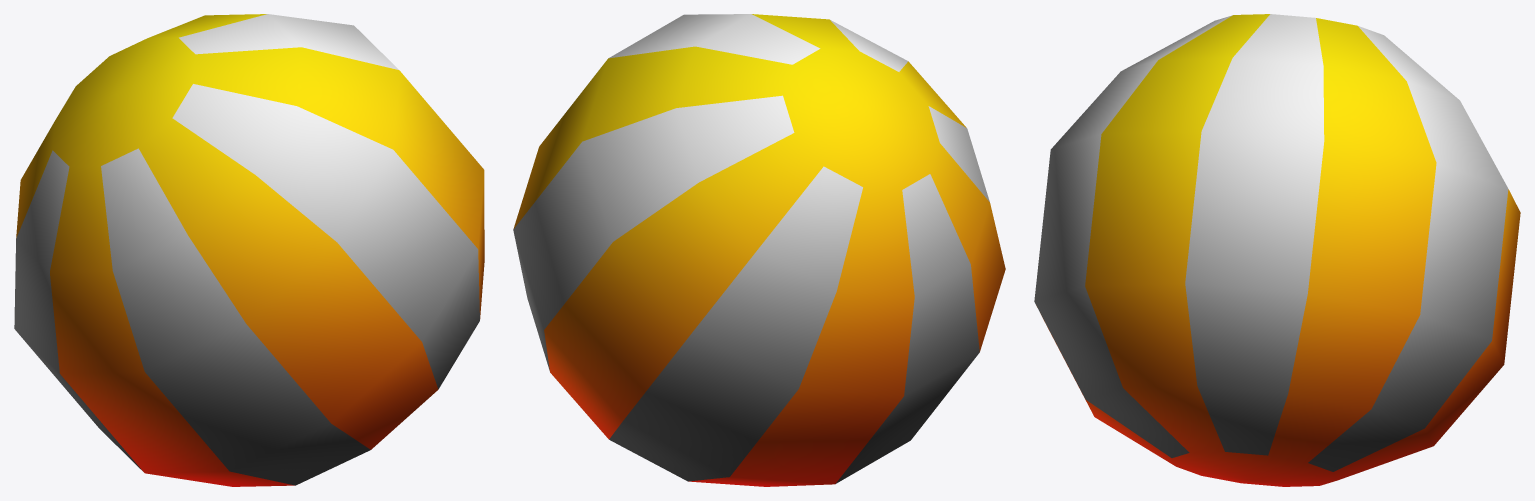
The model's file is Beach Ball.glb.
The picture shows the model from 3 angles, left to right: view 1: azimuth 30°, elevation 25°; view 2: azimuth 150°, elevation 25°; view 3: azimuth 270°, elevation 25°; orthographic projection.
Parts seen in each view (by area): view 1: Ball; view 2: Ball; view 3: Ball.
Boxes of the visible parts, left/top/right/bottom form: Ball: left=14, top=14, right=484, bottom=486; Ball: left=513, top=14, right=1005, bottom=486; Ball: left=1034, top=14, right=1520, bottom=486.
Bounding box in the file's own units: 0.8884 × 0.8762 × 0.8953.
Materials: 1 (1 with a texture image).
